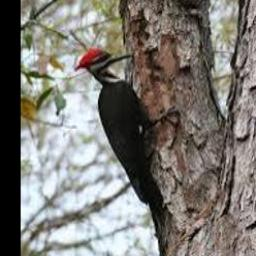Woodpecker: (74, 48, 180, 256)
